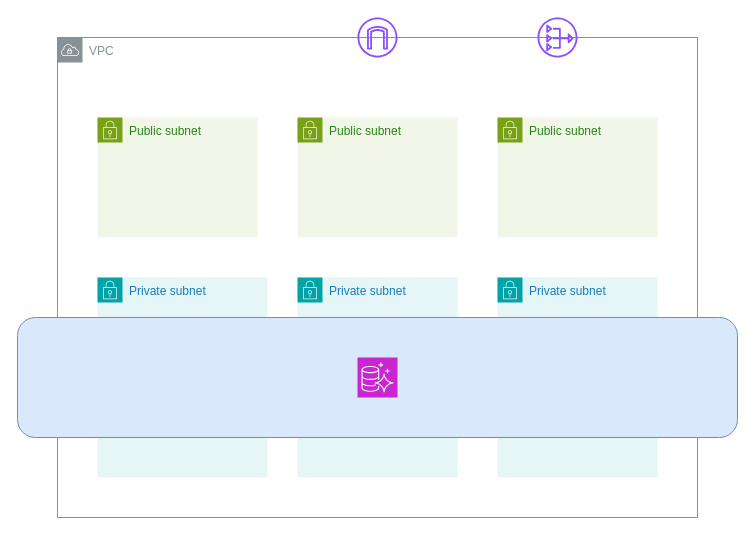
Image size: 755x535. Some labels were removed from this diagram. Each missing label, with the centre of its shape:
"Aurora" belongs at point 377,377.
"Internet Gateway" belongs at point 377,37.
"NAT Gateway" belongs at point 557,37.
